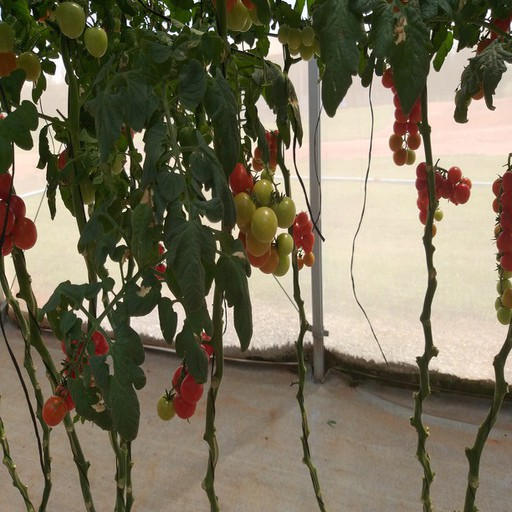green tomato bunch: (216, 1, 267, 33), (277, 27, 324, 60)
mixed tomato bunch: (228, 165, 296, 277), (59, 123, 133, 201), (455, 15, 512, 108)
red tomato bunch: (42, 330, 109, 428), (154, 331, 214, 420), (413, 162, 472, 241), (381, 66, 423, 169), (1, 171, 38, 254), (491, 172, 512, 273), (288, 212, 317, 271), (253, 132, 284, 174), (142, 239, 166, 281)
